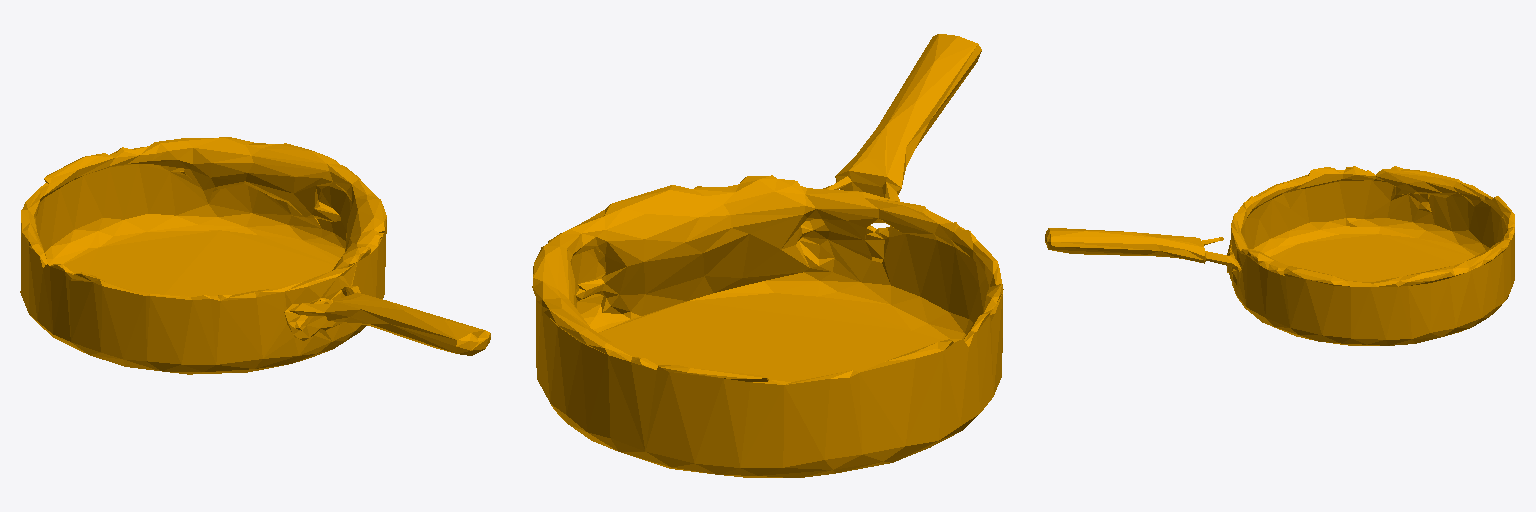
URDF robot description (027_skillet):
<?xml version="1.0" ?>
<robot name="027_skillet">
  <link name="base_link">
    <inertial>
      <origin xyz="0. 0. 0." />
      <mass value="30.0" />
      <inertia ixx="0.001" ixy="0.0" ixz="0.0" iyy="0.001" iyz="0.0" izz="0.001" />
    </inertial>
    <visual name="027_skillet">
      <origin xyz="0. 0. 0."/>
      <geometry>
        <mesh filename="shape/visual/027_skillet.obj" scale="0.8 0.8 0.8"/>
      </geometry>
    </visual>
<collision>
      <origin xyz="0. 0. 0."/>
      <geometry>
        <mesh filename="shape/collision/027_skillet_cm.obj" scale="0.8 0.8 0.8"/>
      </geometry>
    </collision>

  </link>
</robot>

--- Facts derived from the render (not from the file) ---
3 views of the same robot in one strip: view 1: azimuth 30°, elevation 25°; view 2: azimuth 150°, elevation 25°; view 3: azimuth 270°, elevation 25° (orthographic).
Model 027_skillet with 1 links and 0 joints (none), rooted at base_link, posed all joints at 0.
Links seen in each view (by area): view 1: base_link; view 2: base_link; view 3: base_link.
Boxes of the visible links, left/top/right/bottom form: base_link: left=20, top=137, right=490, bottom=374; base_link: left=532, top=34, right=1003, bottom=477; base_link: left=1045, top=166, right=1514, bottom=345.
Bounding box of the posed robot: 0.213 × 0.3527 × 0.0767 m (x, y, z).
1 mesh visuals loaded from 1 distinct referenced files (1 OBJ).